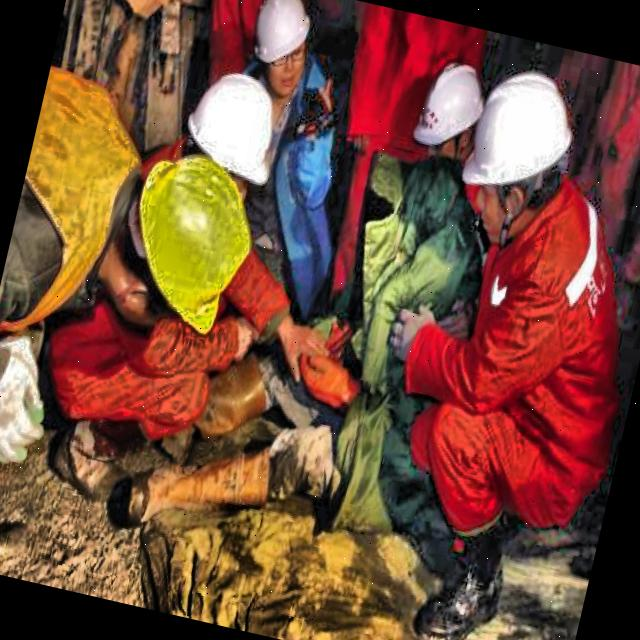helmet: (86, 116, 289, 374), (441, 51, 588, 250), (165, 55, 302, 218), (402, 50, 498, 173), (236, 0, 324, 99)
